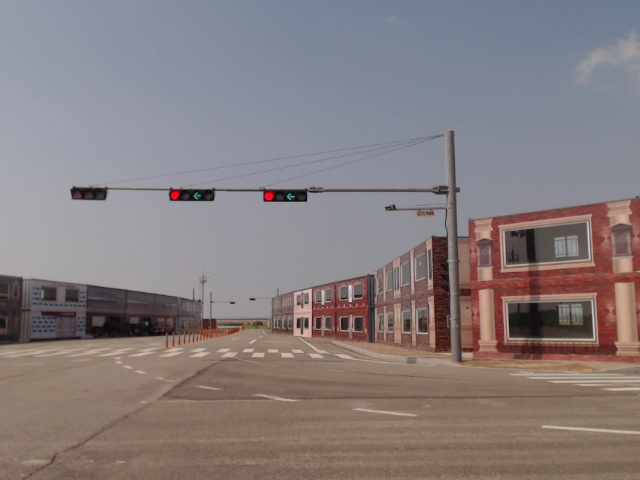left_green_4: (169, 190, 214, 201), (263, 191, 307, 201)
